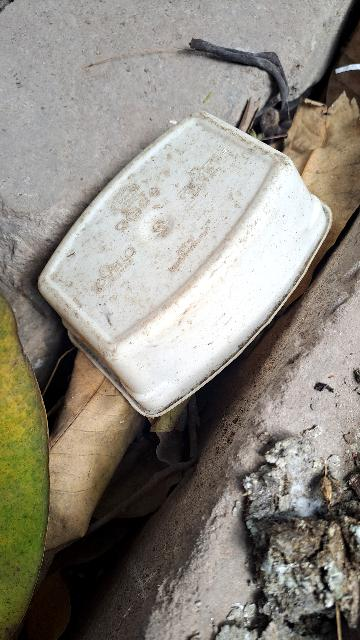hardplastic: (0, 87, 354, 441)
